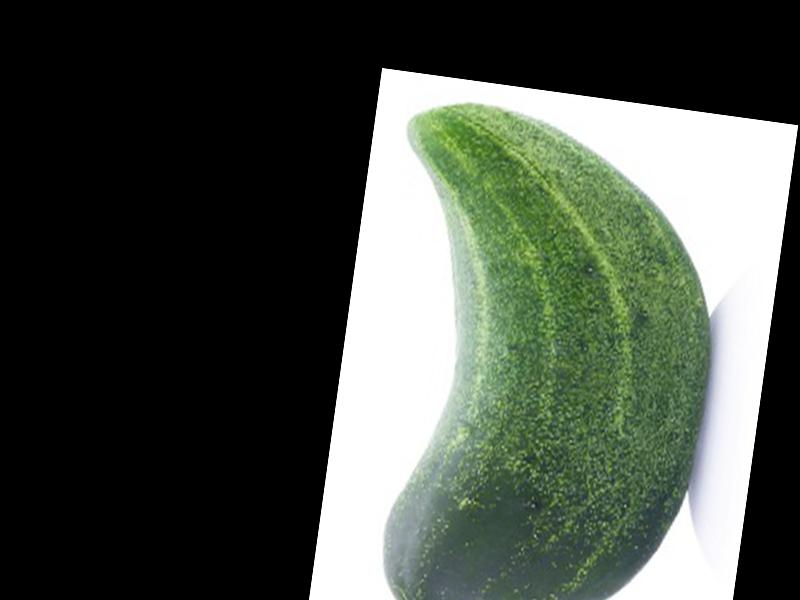Cucumber: (342, 92, 740, 600)
